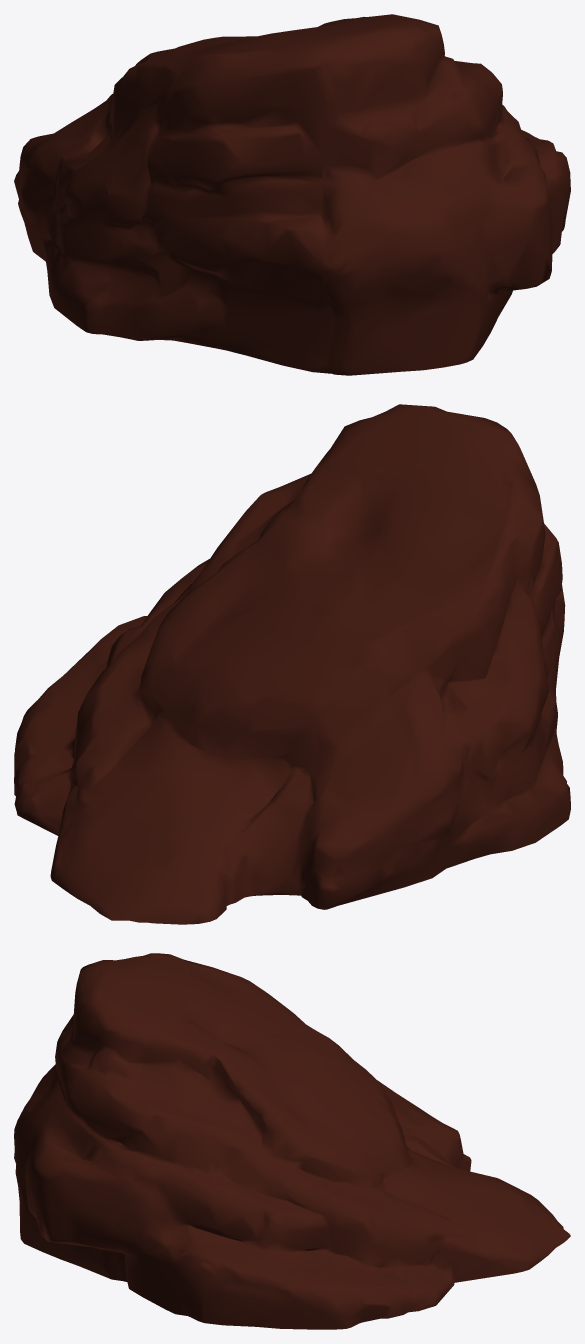
The model's file is Nature_Small_Rock4.FBX.
The picture shows the model from 3 angles, top to bottom: view 1: azimuth 30°, elevation 25°; view 2: azimuth 150°, elevation 25°; view 3: azimuth 270°, elevation 25°; orthographic projection. The views are drawn at different scales.
Visible parts, largest first — view 1: Rock_Small4; view 2: Rock_Small4; view 3: Rock_Small4.
Boxes of the visible parts, x1,y1,x2,y2 form: Rock_Small4: (14,14,570,375); Rock_Small4: (14,404,570,924); Rock_Small4: (14,953,570,1329).
Size of the model in its own units: 259 by 155 by 323.
